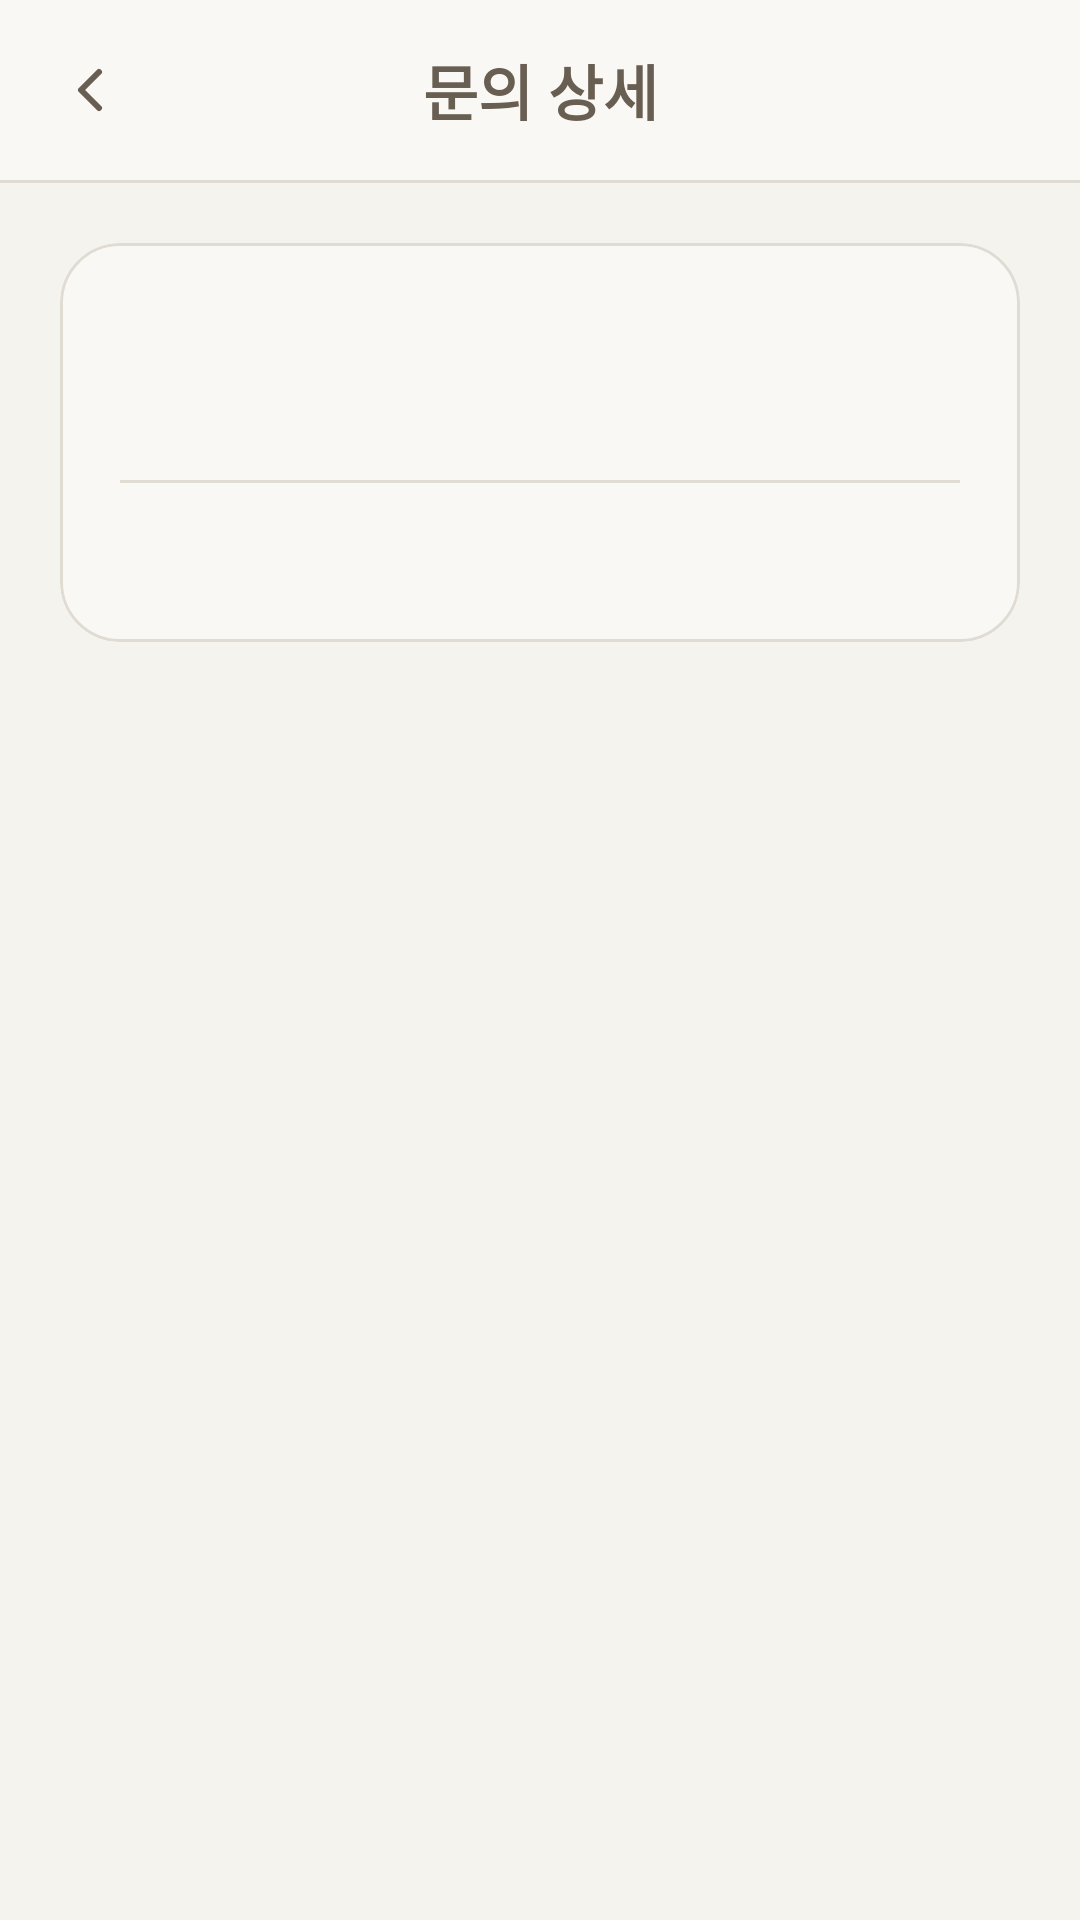

Where to tap for icons on this 1080*1920 app screen, as (x=x, y=y):
뒤로: (x=90, y=90)
